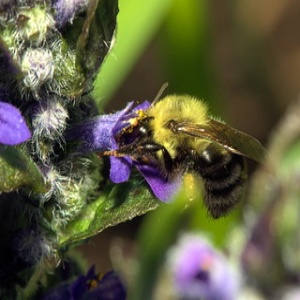bee: (98, 83, 281, 219)
